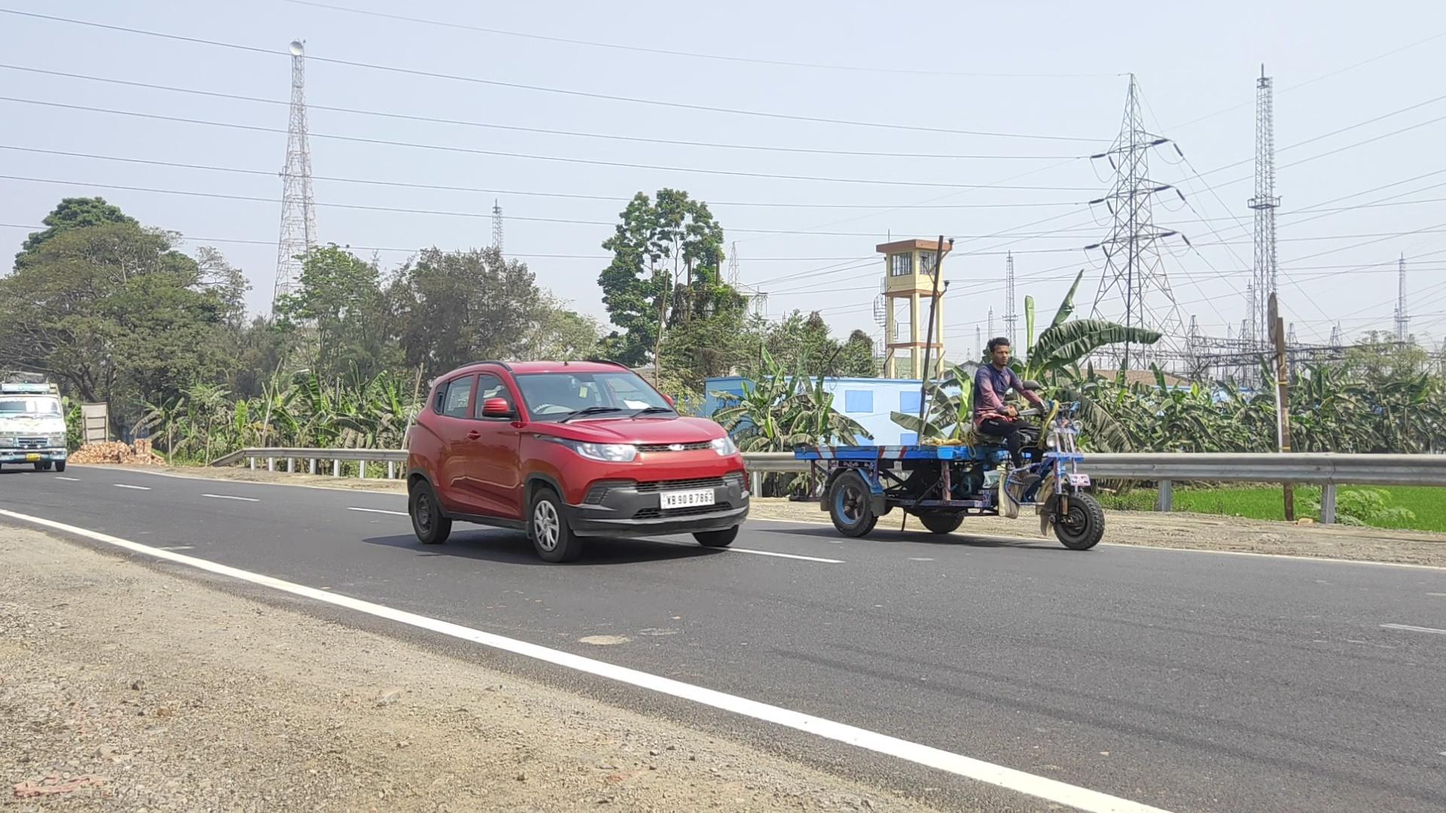car: (406, 361, 752, 564)
truck: (1, 380, 68, 473)
